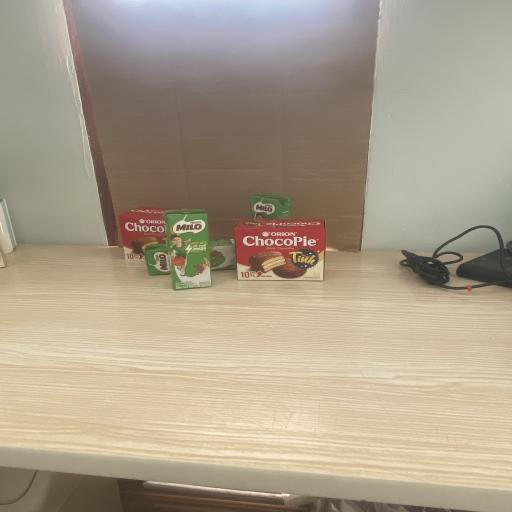chocopie: (234, 218, 326, 282), (118, 207, 170, 262)
milo: (166, 208, 212, 290), (144, 240, 236, 276), (250, 192, 292, 220)
